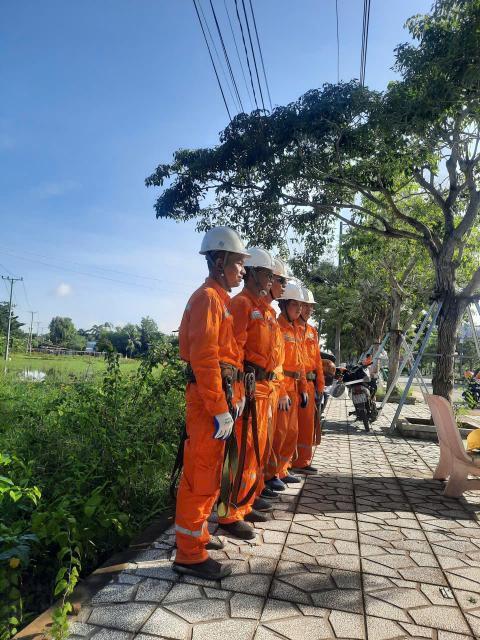gloves: (210, 414, 243, 441), (278, 394, 292, 412), (298, 394, 311, 406)
harness: (232, 358, 282, 389), (204, 362, 243, 390), (278, 364, 300, 384), (300, 367, 319, 382)
helmet: (180, 221, 251, 256), (241, 247, 277, 272), (277, 285, 304, 304), (297, 279, 316, 306), (271, 258, 290, 280)
shoes: (181, 547, 227, 582), (228, 494, 269, 523), (191, 523, 226, 553), (228, 515, 259, 547), (248, 487, 271, 515), (256, 478, 280, 500), (276, 461, 299, 483), (293, 460, 319, 479), (263, 471, 285, 491)
